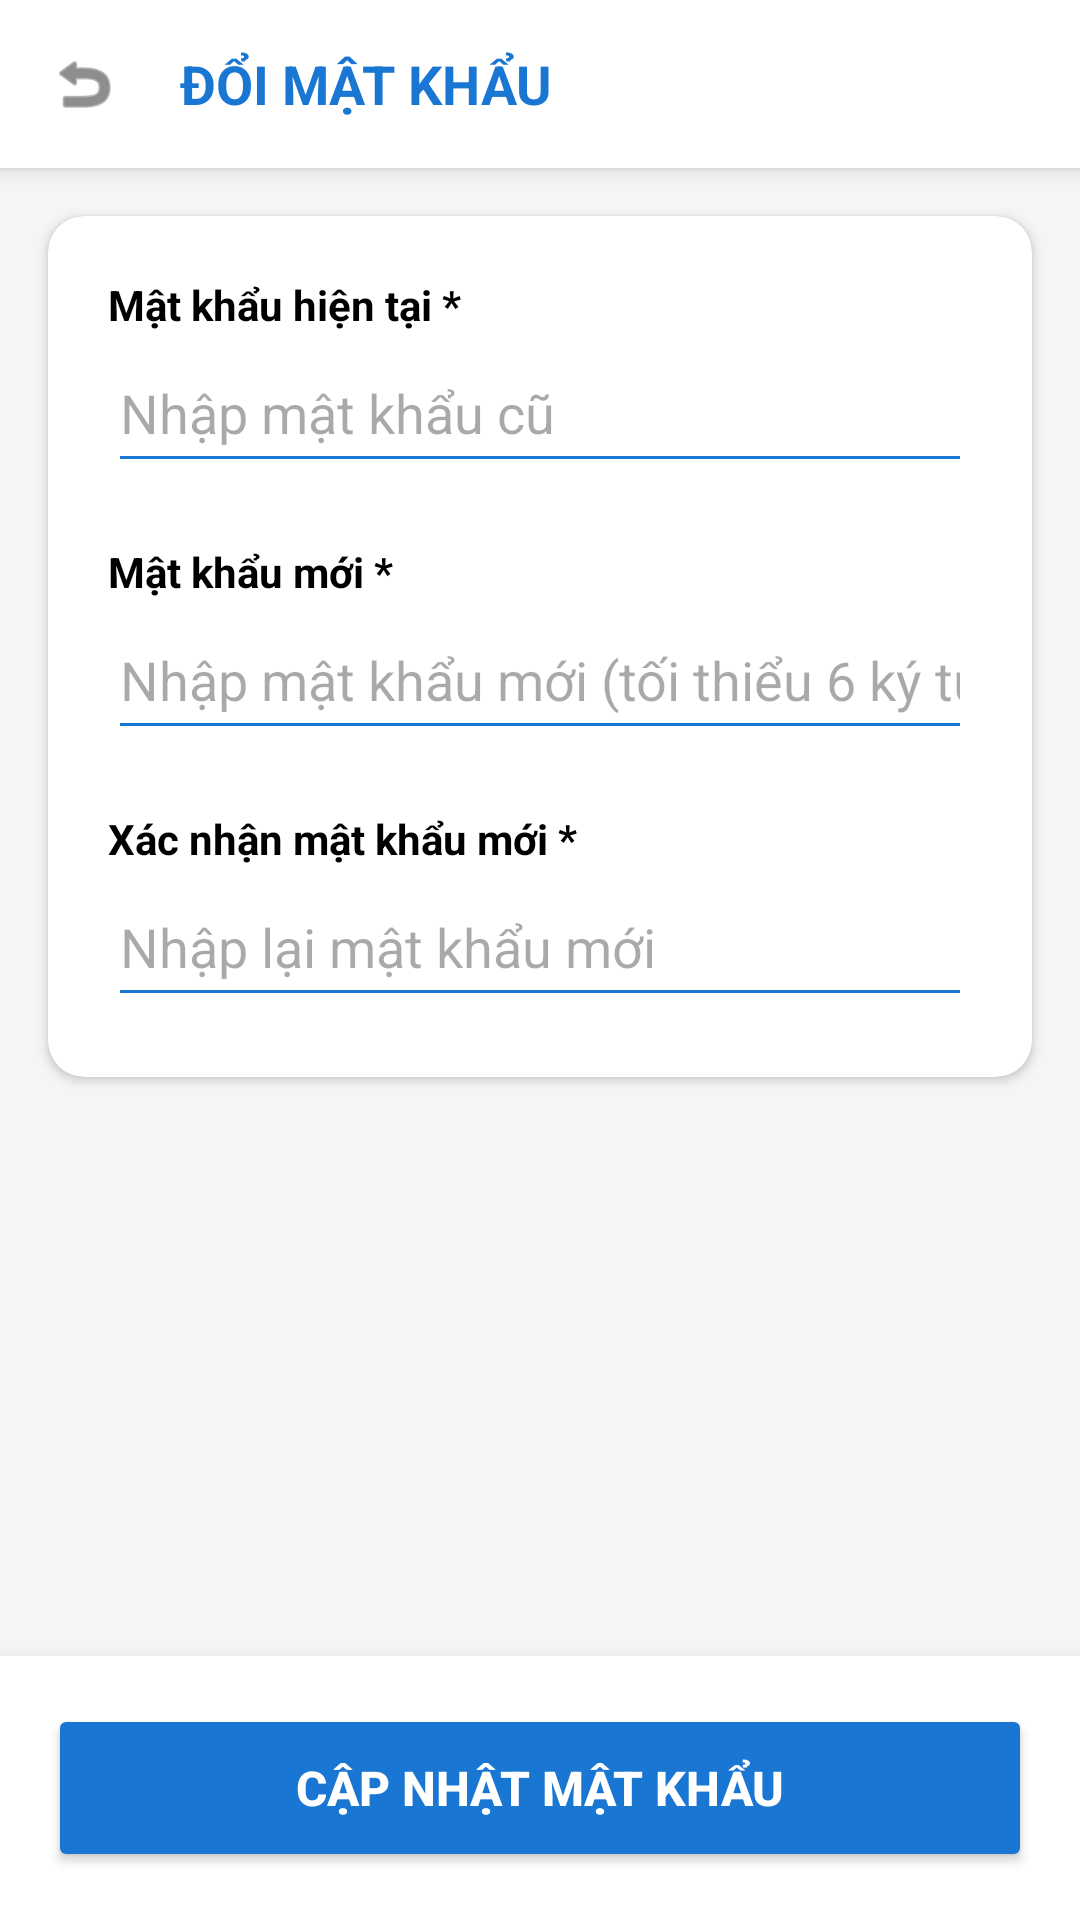

Icon click points for this 1080 × 1920 phone screenshot, format (x,y):
revert: (85,84)
